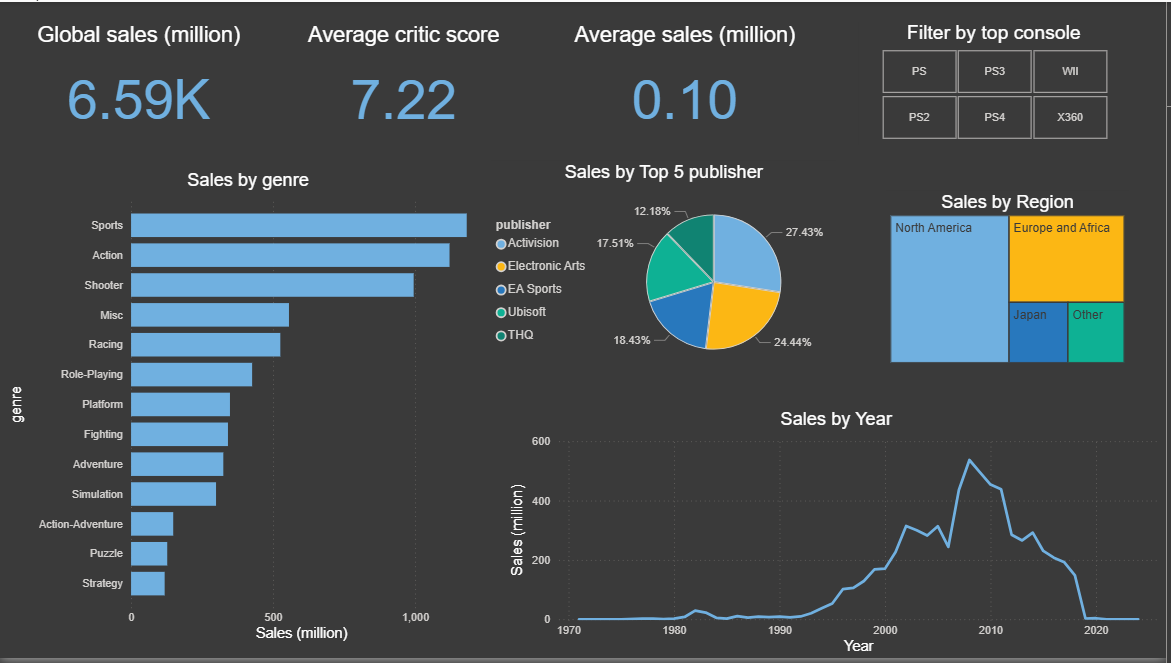

Layout of this report page (visuals, bound fields, positions):
{"tool":"powerbi","page":{"name":"Vg Sales dashboard","canvas":[1280,720],"ordinal":0},"visuals":[{"type":"card","title":"Global sales (million)","fields":{"Values":["Sum(vg_sales_clean.total_sales)"]},"box":[22,22,260.7,134.5],"z":0},{"type":"card","title":"Average critic score","fields":{"Values":["Avg(vg_sales_clean.critic_score)"]},"box":[312.9,22,260.7,134.5],"z":1000},{"type":"card","title":"Average sales (million)","fields":{"Values":["Avg(vg_sales_clean.total_sales)"]},"box":[621.6,22,260.7,134.5],"z":2000},{"type":"clusteredBarChart","title":"Sales by genre","fields":{"Category":["vg_sales_clean.genre"],"Y":["Sum(vg_sales_clean.total_sales)"]},"box":[5.5,183.9,533.8,522.8],"z":3000},{"type":"lineChart","title":"Sales by Year","fields":{"Category":["vg_sales_clean.Year"],"Y":["Sum(vg_sales_clean.total_sales)"]},"box":[555.7,446,724.5,274.4],"z":4000},{"type":"treemap","title":"Sales by Region","fields":{"Group":["RegionSales.Region"],"Values":["Sum(RegionSales.Sales)"]},"box":[972.8,207.4,266.4,193.9],"z":5000},{"type":"pieChart","title":"Sales by Top 5 publisher","fields":{"Category":["vg_sales_clean.publisher"],"Y":["Sum(RegionSales.Sales)"]},"box":[539.3,174.3,378.7,244.3],"z":6000},{"type":"slicer","title":"Filter by top console","fields":{"Values":["vg_sales_clean.console"]},"box":[942.5,21.9,296.7,134.9],"z":6001}]}

Visuals, with their boxes in screenshot pixels (x1, y1, x2, y2), scaled from the page's 1280x720 canvas onto the 1171x663 screenshot:
"Global sales (million)" card: box(20, 20, 259, 144)
"Average critic score" card: box(286, 20, 525, 144)
"Average sales (million)" card: box(569, 20, 807, 144)
"Sales by genre" clusteredBarChart: box(5, 169, 493, 651)
"Sales by Year" lineChart: box(508, 411, 1170, 662)
"Sales by Region" treemap: box(890, 191, 1134, 370)
"Sales by Top 5 publisher" pieChart: box(493, 161, 840, 385)
"Filter by top console" slicer: box(862, 20, 1134, 144)
